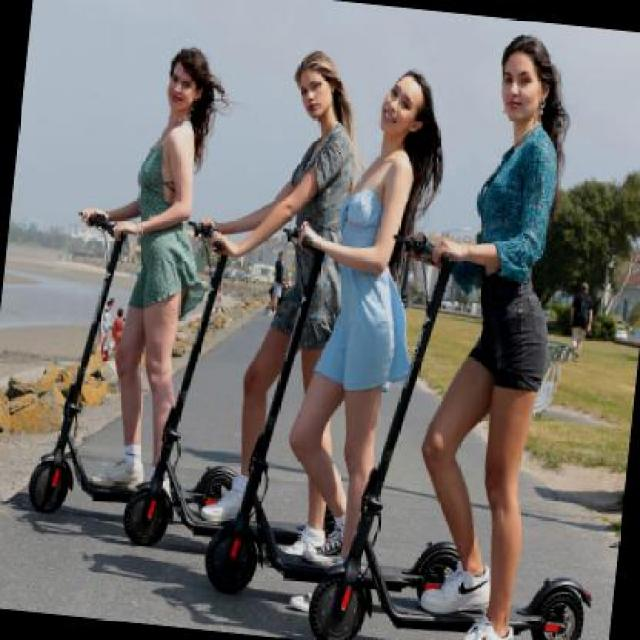bare_head: (157, 50, 234, 114)
human: (116, 39, 206, 481)
kickboard: (36, 442, 199, 520)
